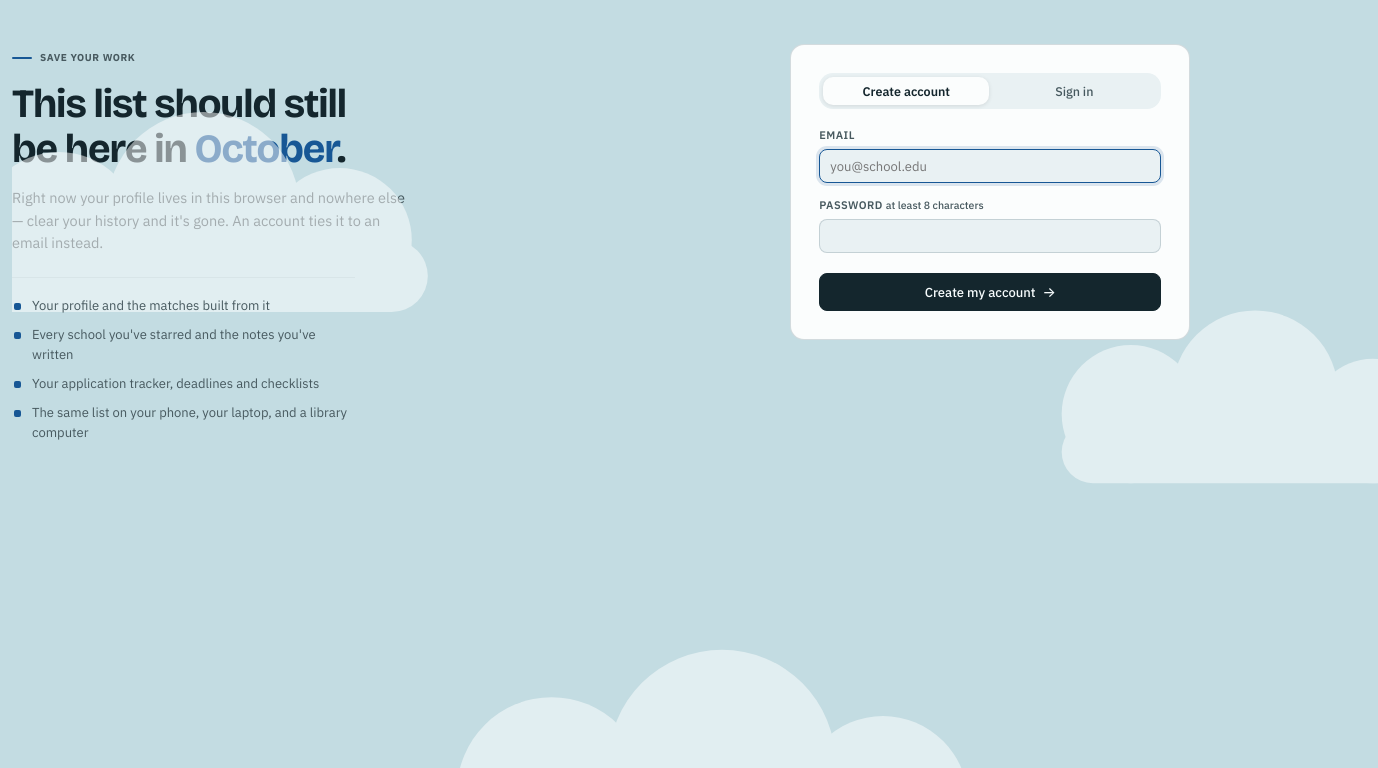
Scenario: signing up › shows a validation error and stays on the form
Type "jordan@example.com" into the field labelled "Email" at x=990, y=166, box [819,149,1161,183]
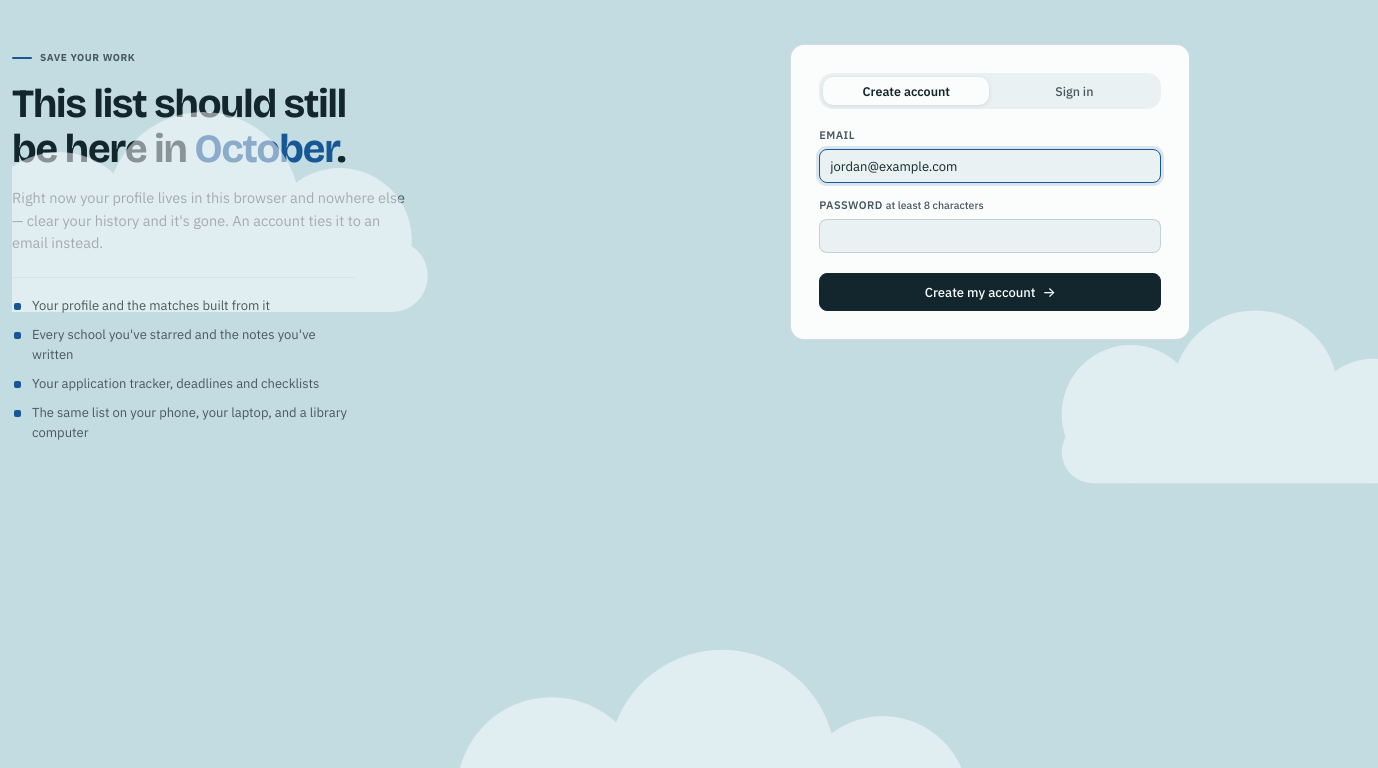
Type "correct horse battery" into the password field labelled "Password at least 8 characters" at x=990, y=236, box [819,219,1161,253]
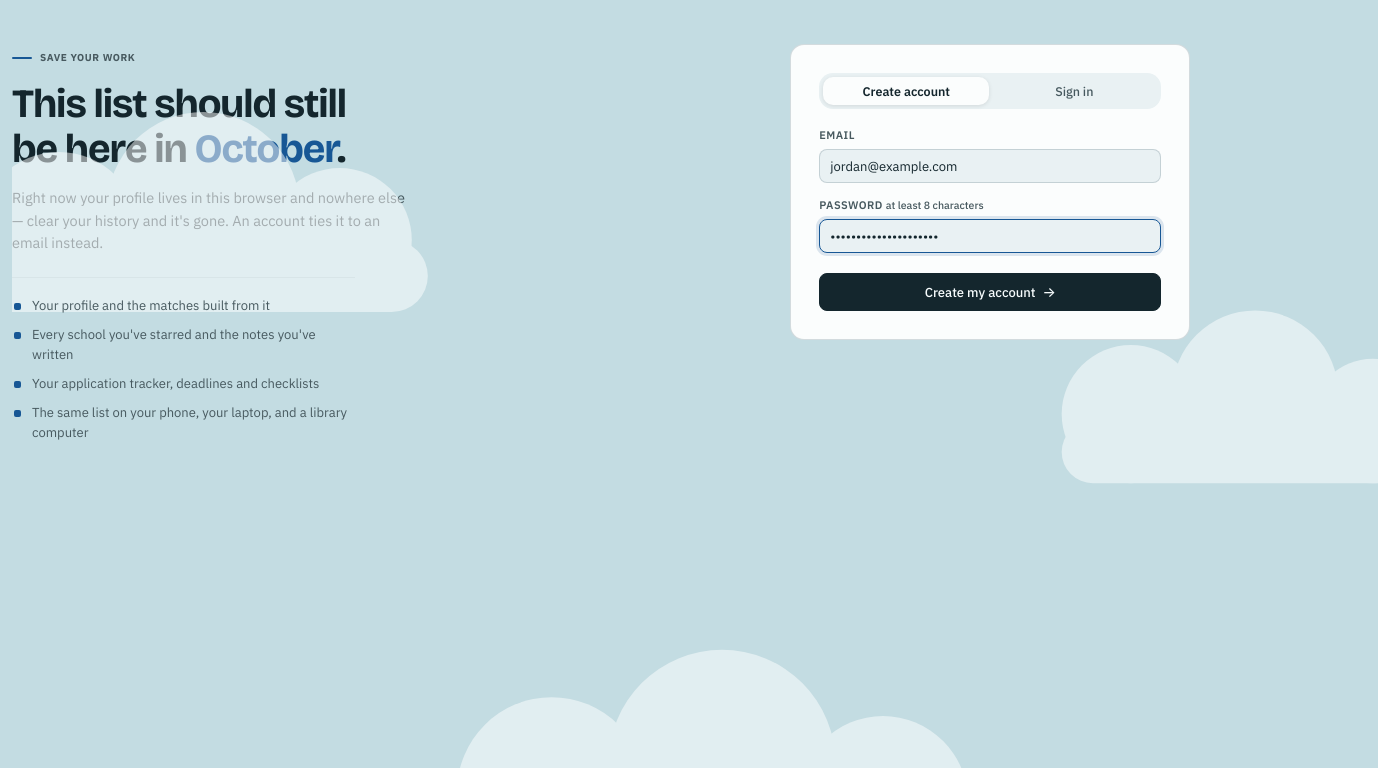
Click the button "Create my account →" at x=990, y=292, box [819,273,1161,311]
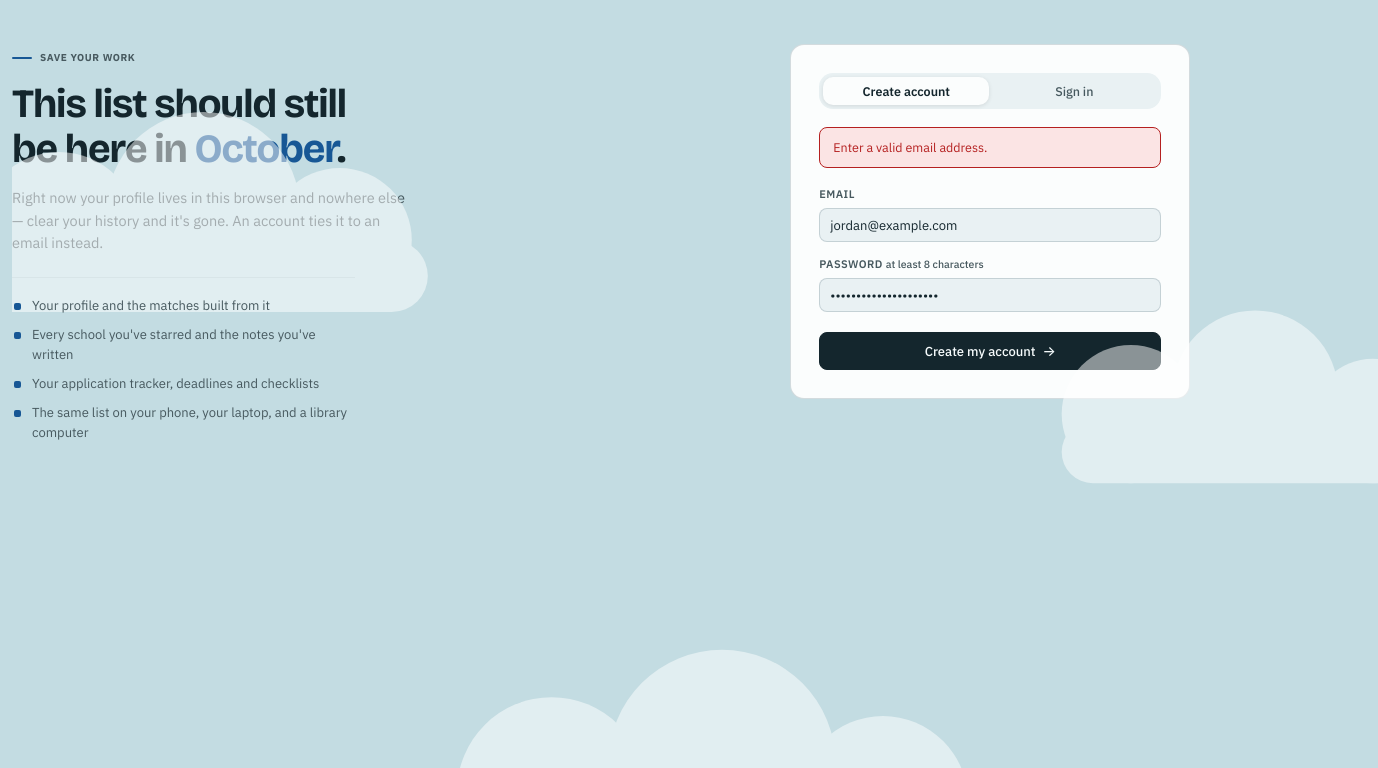
Check: the message reads "Enter a valid email address.", box [833,139,987,155]
